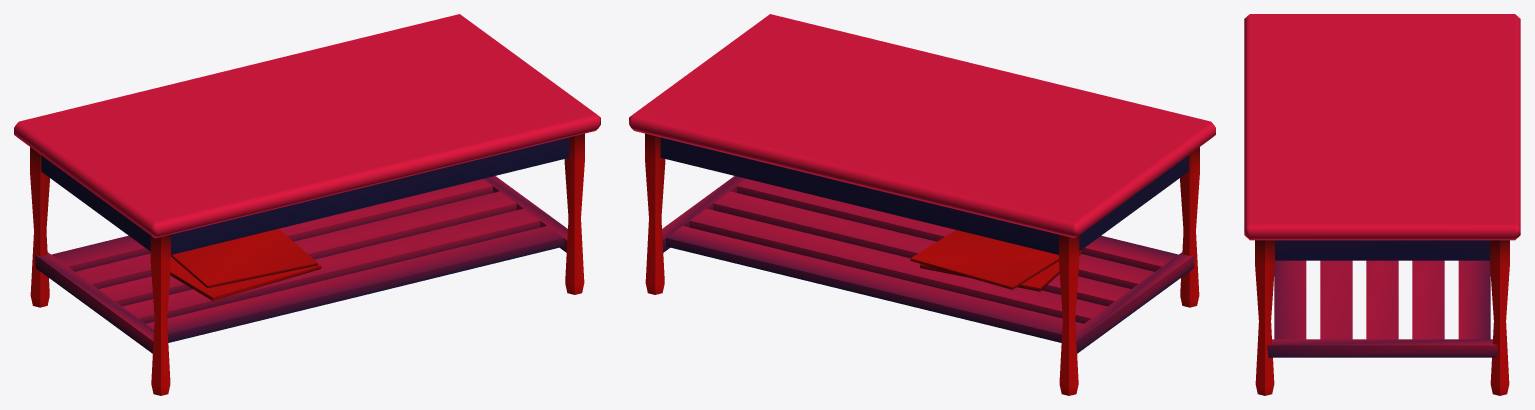
File: CI_Living_CoffeeTable.glb
The picture shows the model from 3 angles, left to right: view 1: azimuth 30°, elevation 25°; view 2: azimuth 150°, elevation 25°; view 3: azimuth 270°, elevation 25°; orthographic projection. The views are drawn at different scales.
Parts seen in each view (by area): view 1: CI_Living_CoffeeTable; view 2: CI_Living_CoffeeTable; view 3: CI_Living_CoffeeTable.
Boxes of the visible parts, x1=… form: CI_Living_CoffeeTable: x1=14, y1=14, x2=600, y2=395; CI_Living_CoffeeTable: x1=629, y1=14, x2=1215, y2=395; CI_Living_CoffeeTable: x1=1244, y1=14, x2=1520, y2=395.
Bounding box in the file's own units: 1.1 × 0.42 × 0.6.
